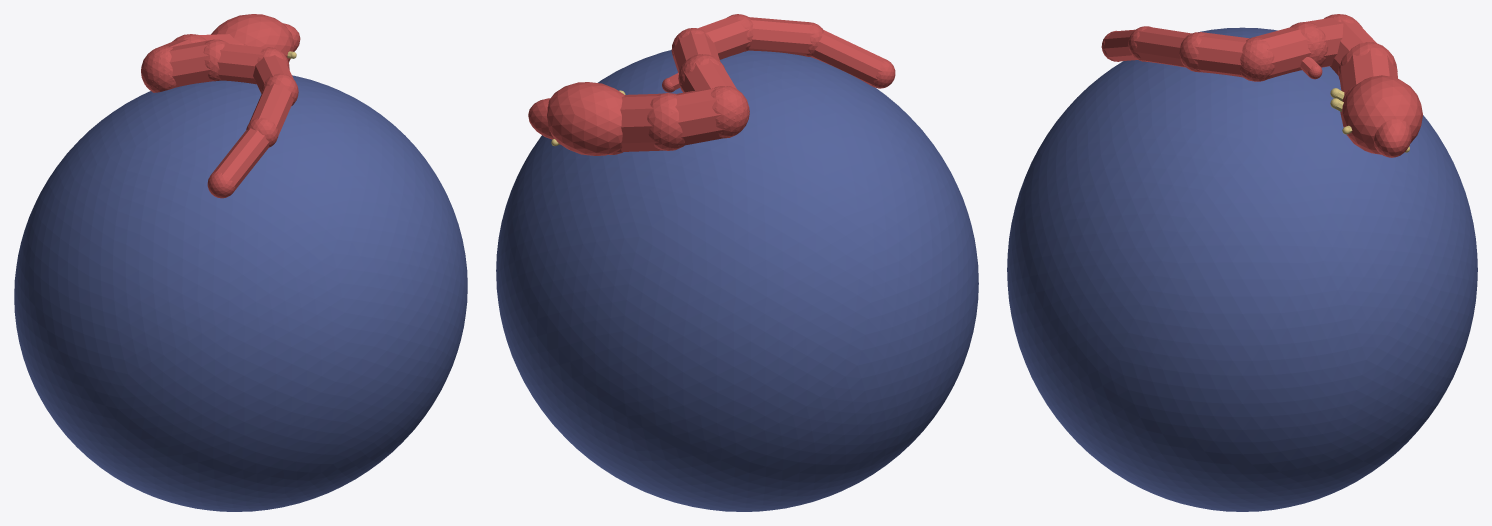
The model's file is phoboman_torso.glb.
3 renders of one model, left to right at view 1: azimuth 30°, elevation 25°; view 2: azimuth 150°, elevation 25°; view 3: azimuth 270°, elevation 25°, orthographic. The views are drawn at different scales.
Parts seen in each view (by area): view 1: geometry_0; view 2: geometry_0; view 3: geometry_0.
Boxes of the visible parts, x1,y1,x2,y2 form: geometry_0: (14,14,467,511); geometry_0: (496,14,978,511); geometry_0: (1007,14,1477,511).
Bounding box in the file's own units: 1.04 × 1.07 × 0.9776.
